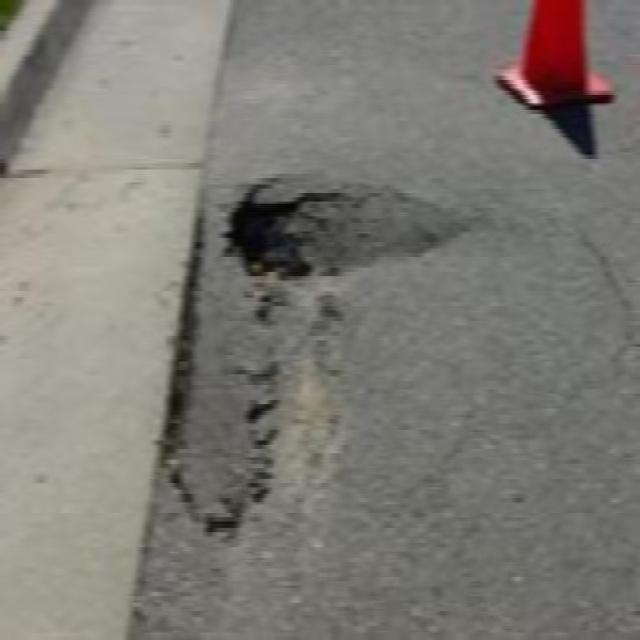Pothole: (127, 292, 364, 562), (212, 172, 483, 280)
